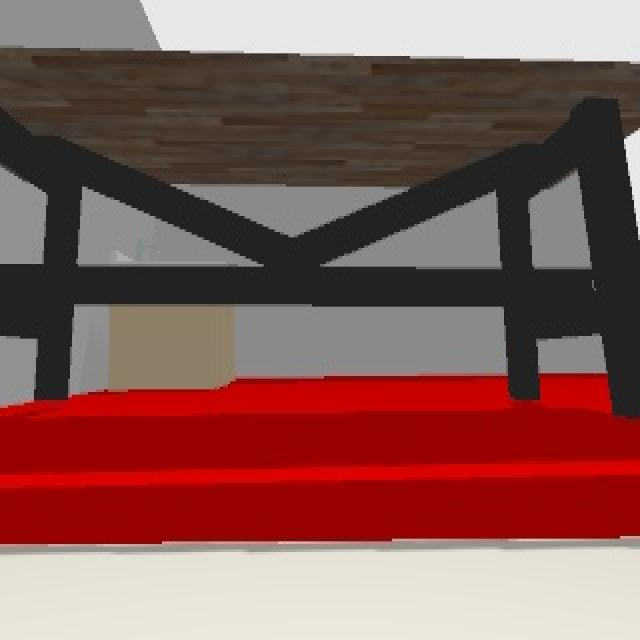dining: (0, 47, 640, 416)
